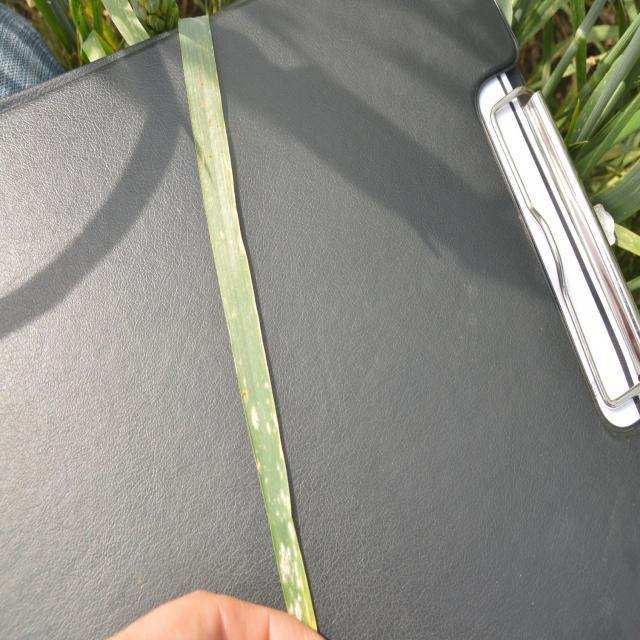wheat-powdery-mildew: (176, 15, 318, 630)
